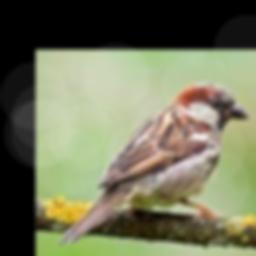Sparrow: (59, 82, 250, 244)
